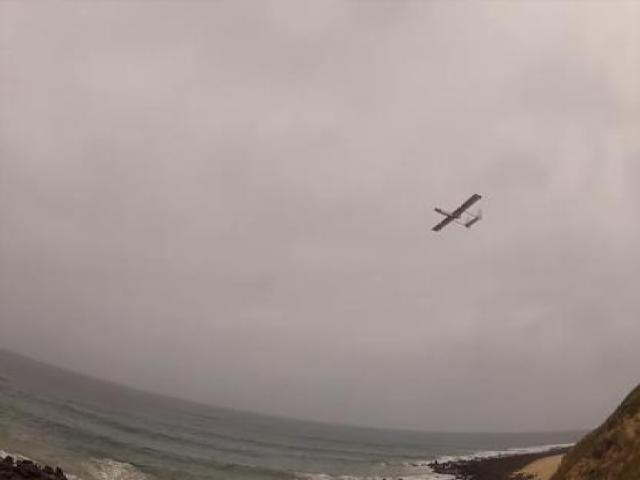uav: (424, 186, 490, 237)
